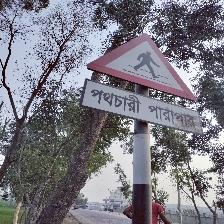Pedestrian-crossing: (81, 32, 203, 134)
